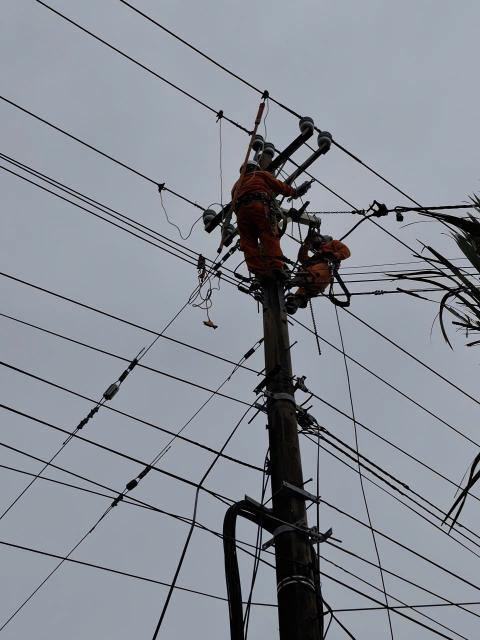harness: (226, 186, 283, 213), (311, 245, 342, 272)
helmet: (303, 222, 327, 252), (236, 153, 264, 174)
shoes: (268, 262, 291, 283), (282, 298, 298, 318), (248, 273, 264, 293)
